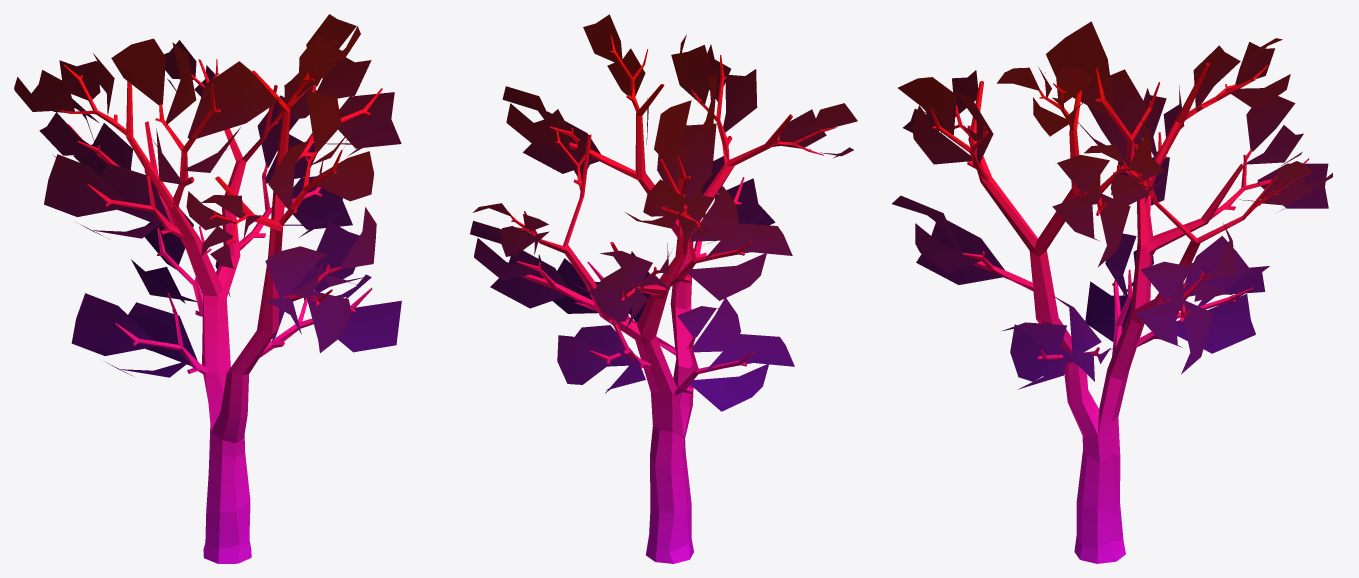
File: synty-tree-generic-dead-01.gltf
3 views of the same model, side by side, from view 1: azimuth 30°, elevation 25°; view 2: azimuth 150°, elevation 25°; view 3: azimuth 270°, elevation 25° (orthographic). The views are drawn at different scales.
Parts seen in each view (by area): view 1: SM_Tree_Generic_Dead_01; view 2: SM_Tree_Generic_Dead_01; view 3: SM_Tree_Generic_Dead_01.
Boxes of the visible parts, x1=… form: SM_Tree_Generic_Dead_01: x1=14, y1=14, x2=401, y2=563; SM_Tree_Generic_Dead_01: x1=470, y1=14, x2=857, y2=563; SM_Tree_Generic_Dead_01: x1=892, y1=21, x2=1332, y2=563.
Size of the model in its own units: 3.56 by 5.33 by 4.11.
